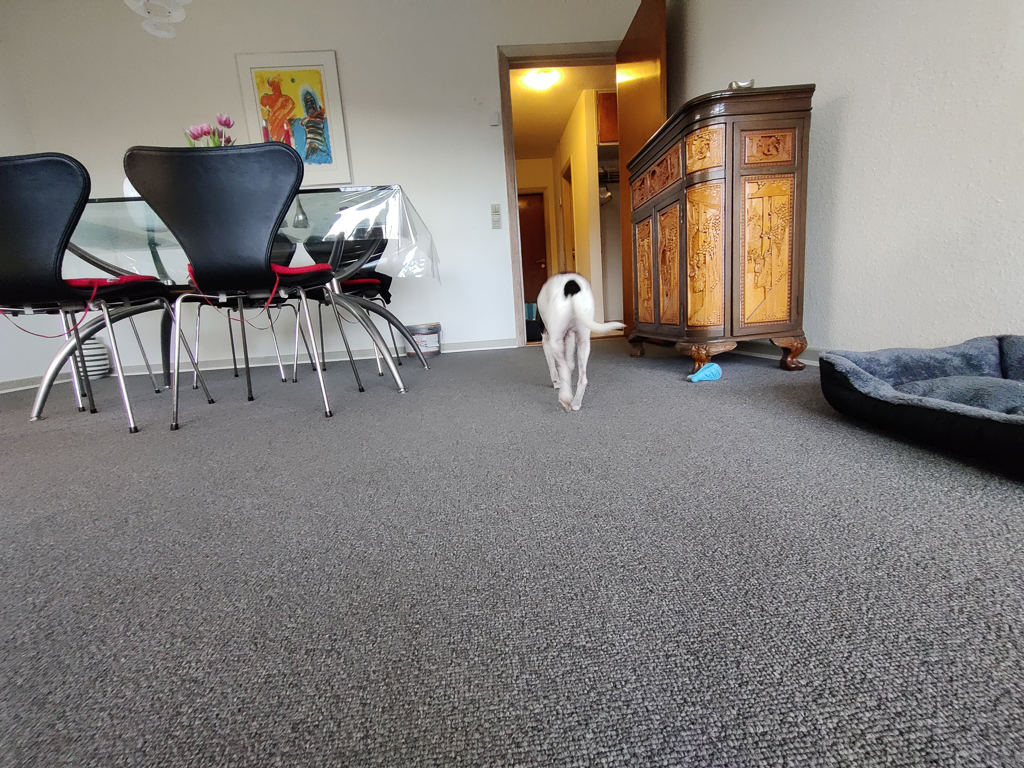Dog: (529, 254, 636, 423)
